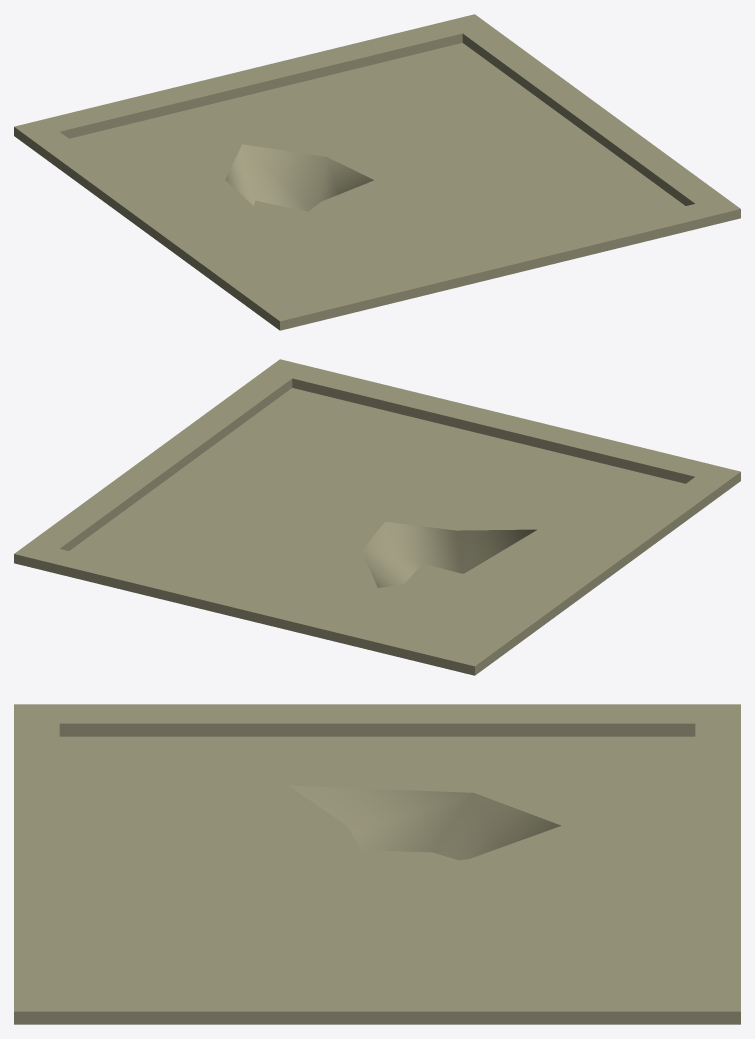
File: Tile2.fbx
3 renders of one model, top to bottom at view 1: azimuth 30°, elevation 25°; view 2: azimuth 150°, elevation 25°; view 3: azimuth 270°, elevation 25°, orthographic. The views are drawn at different scales.
Parts seen in each view (by area): view 1: Hole_Tile; view 2: Hole_Tile; view 3: Hole_Tile.
Boxes of the visible parts, bbox=[...] form: Hole_Tile: bbox=[14, 14, 740, 330]; Hole_Tile: bbox=[14, 359, 740, 675]; Hole_Tile: bbox=[14, 704, 740, 1024].
Bounding box in the file's own units: 1 × 0.1011 × 1.
